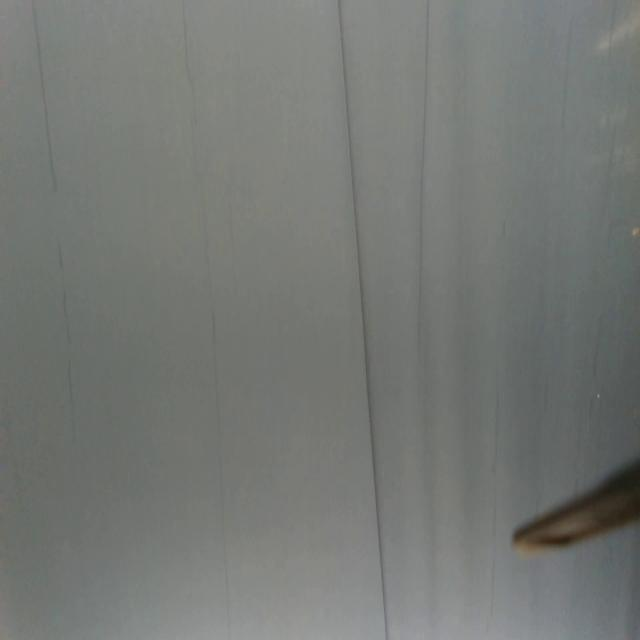crease: (338, 0, 389, 640), (182, 1, 232, 640), (30, 0, 76, 440), (416, 0, 432, 367), (488, 394, 502, 636)
